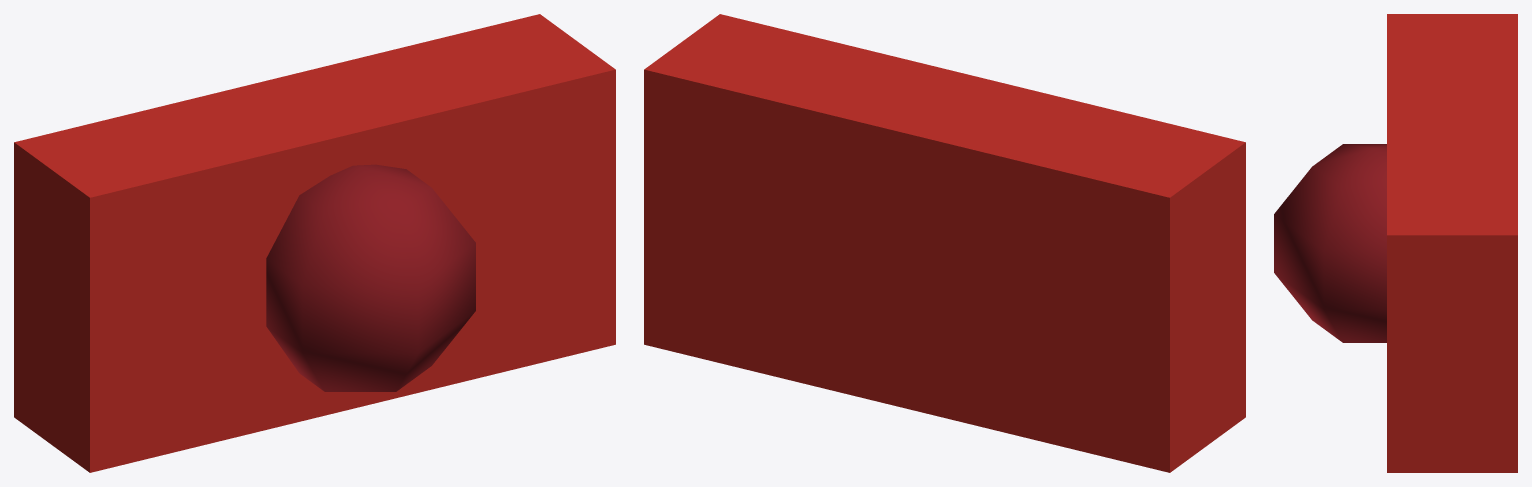
Rendered from person-bow.glb.
3 views of the same model, side by side, from view 1: azimuth 30°, elevation 25°; view 2: azimuth 150°, elevation 25°; view 3: azimuth 270°, elevation 25° (orthographic). The views are drawn at different scales.
Visible parts, largest first — view 1: 00_#c22a22_noshadow_r110, 01_#8a1c22_noshadow_r110; view 2: 00_#c22a22_noshadow_r110; view 3: 00_#c22a22_noshadow_r110, 01_#8a1c22_noshadow_r110.
Boxes of the visible parts, x1,y1,x2,y2 form: 00_#c22a22_noshadow_r110: (14,14,615,472); 01_#8a1c22_noshadow_r110: (266,164,475,391); 00_#c22a22_noshadow_r110: (644,14,1245,472); 00_#c22a22_noshadow_r110: (1387,14,1517,472); 01_#8a1c22_noshadow_r110: (1274,144,1386,342).
Bounding box in the file's own units: 0.2 × 0.1 × 0.093.
